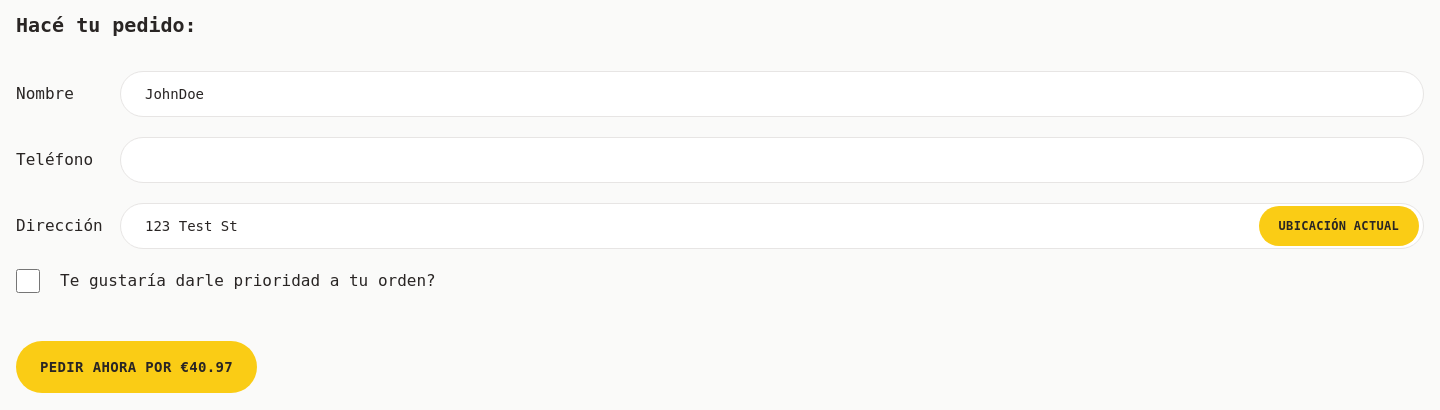
Test: CreateOrder Component › updates total price when priority is selected
The image size is (1440, 410).
Expected: the button "Pedir ahora por €40.97" is shown, [16,341,257,393]
# With priority (21% extra)
Click the checkbox labelled "Te gustaría darle prioridad a tu orden?": (28, 281) [16,269,40,293]
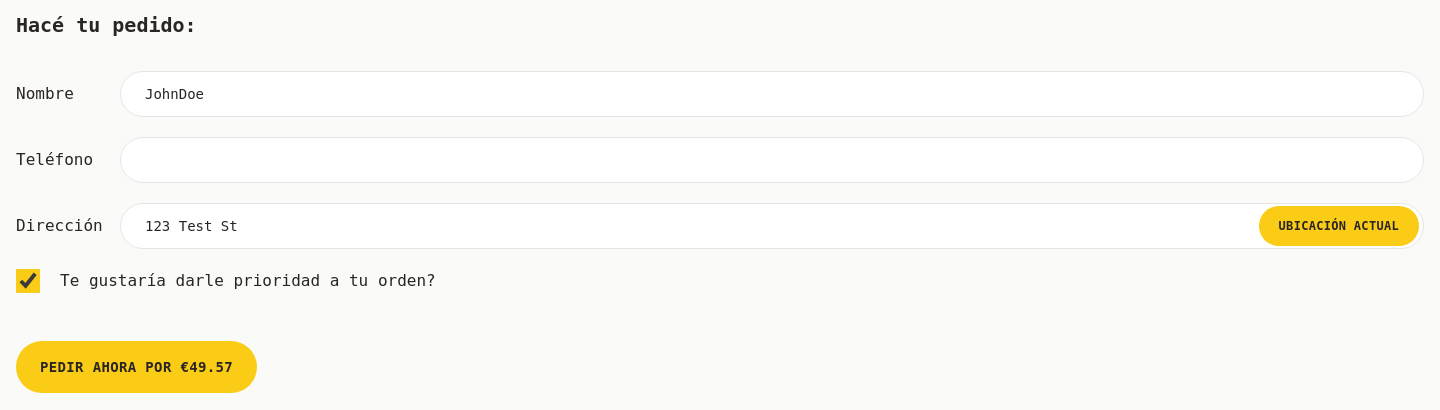
Now the button "Pedir ahora por €49.57" is shown, box [16,341,257,393]
